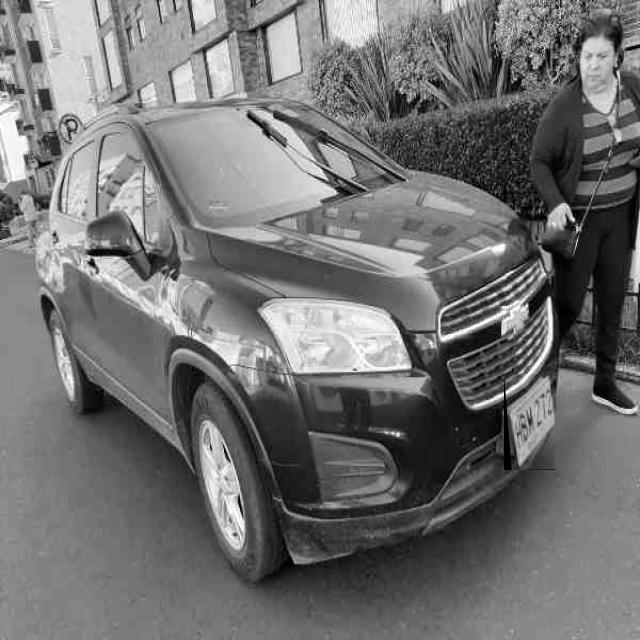plate: (506, 374, 555, 470)
